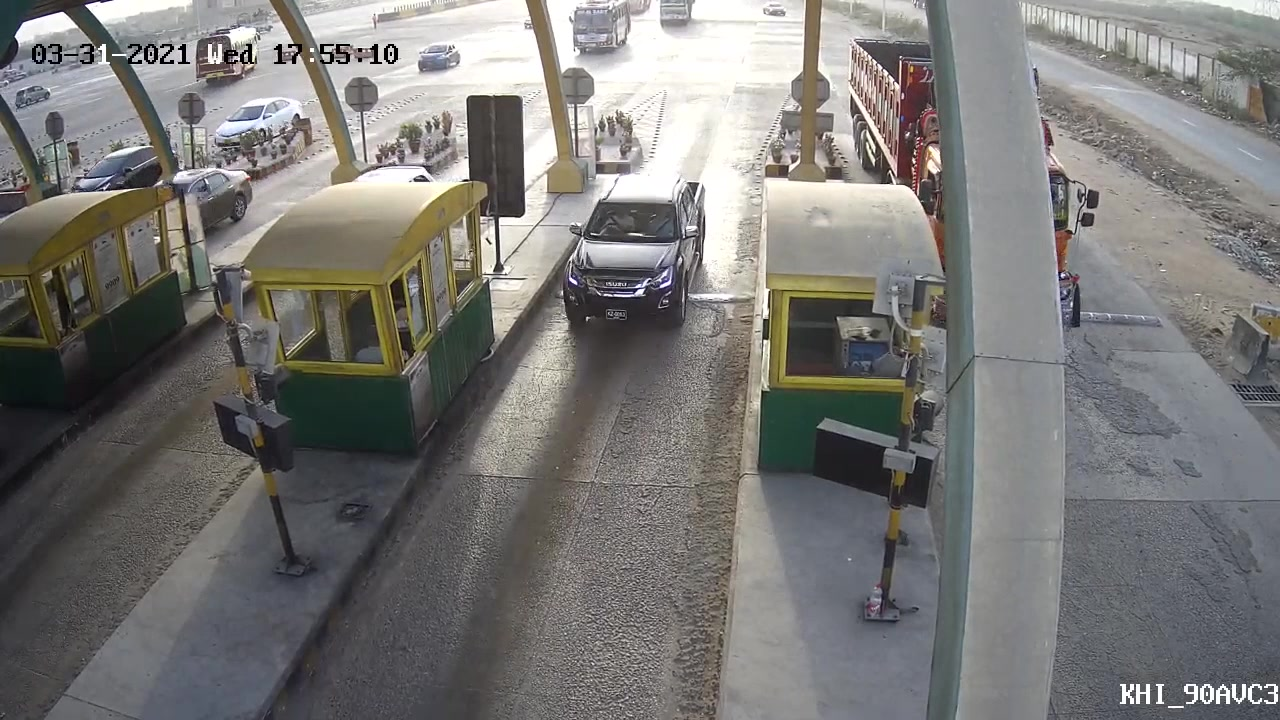F1: (557, 165, 715, 329)
